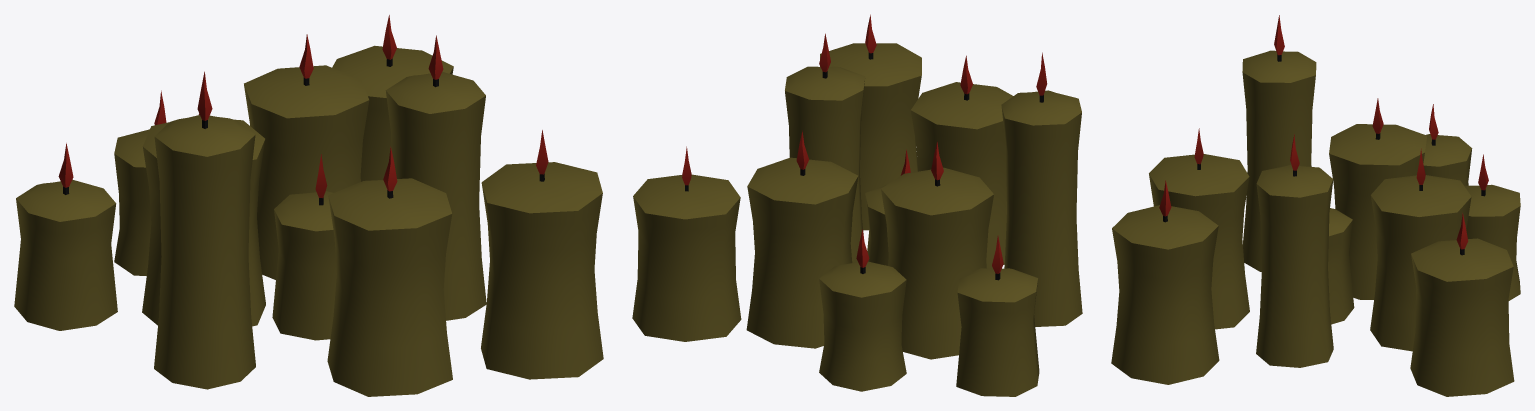
Rendered from Candles_2.obj.
3 renders of one model, left to right at view 1: azimuth 30°, elevation 25°; view 2: azimuth 150°, elevation 25°; view 3: azimuth 270°, elevation 25°, orthographic. The views are drawn at different scales.
Visible parts, largest first — view 1: Candles_2_Cube.001; view 2: Candles_2_Cube.001; view 3: Candles_2_Cube.001.
Boxes of the visible parts, <box> form: Candles_2_Cube.001: <box>14,15,603,396</box>; Candles_2_Cube.001: <box>632,14,1082,396</box>; Candles_2_Cube.001: <box>1111,15,1520,396</box>.
Size of the model in its own units: 0.9931 by 0.6457 by 0.9861.
